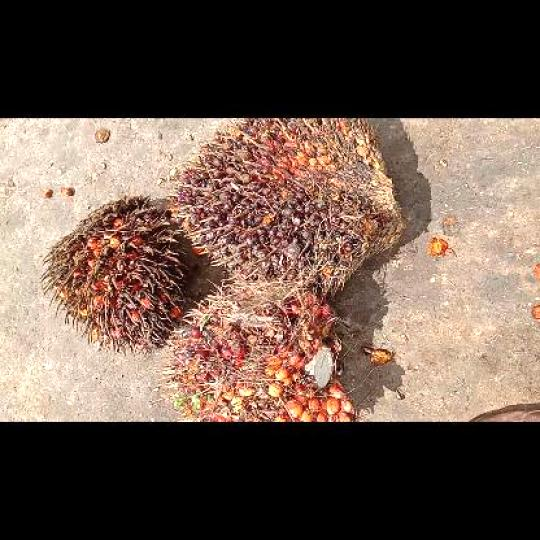kurang masak: (175, 118, 404, 295)
masak: (165, 285, 357, 421)
terlalu masak: (45, 195, 181, 350)
